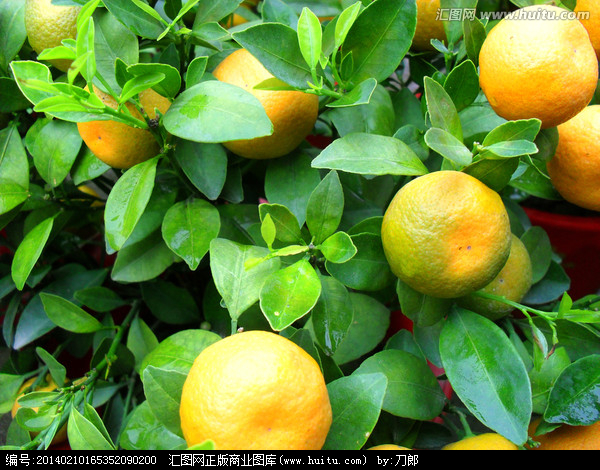orange: (180, 331, 331, 451), (380, 171, 510, 299), (476, 5, 598, 128), (202, 39, 316, 157), (74, 70, 177, 167), (21, 1, 124, 72), (451, 224, 530, 316), (541, 104, 600, 209), (365, 1, 469, 54)
